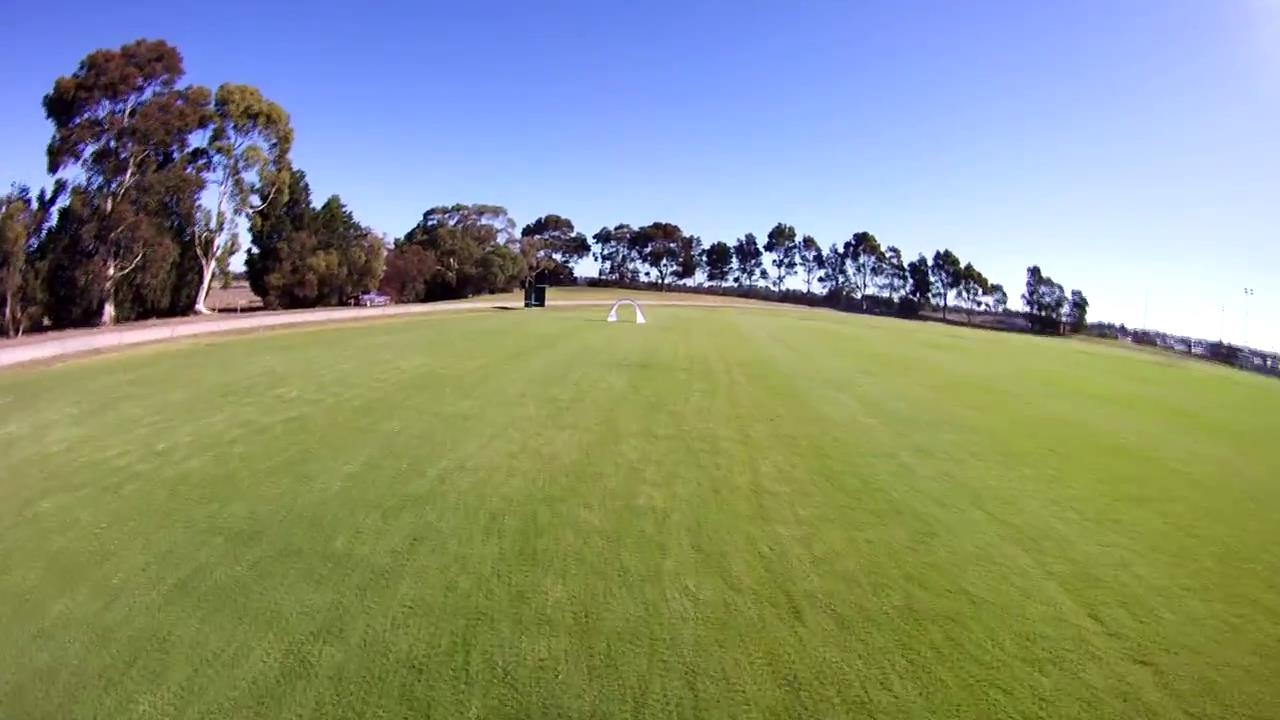gate: (606, 298, 648, 326)
